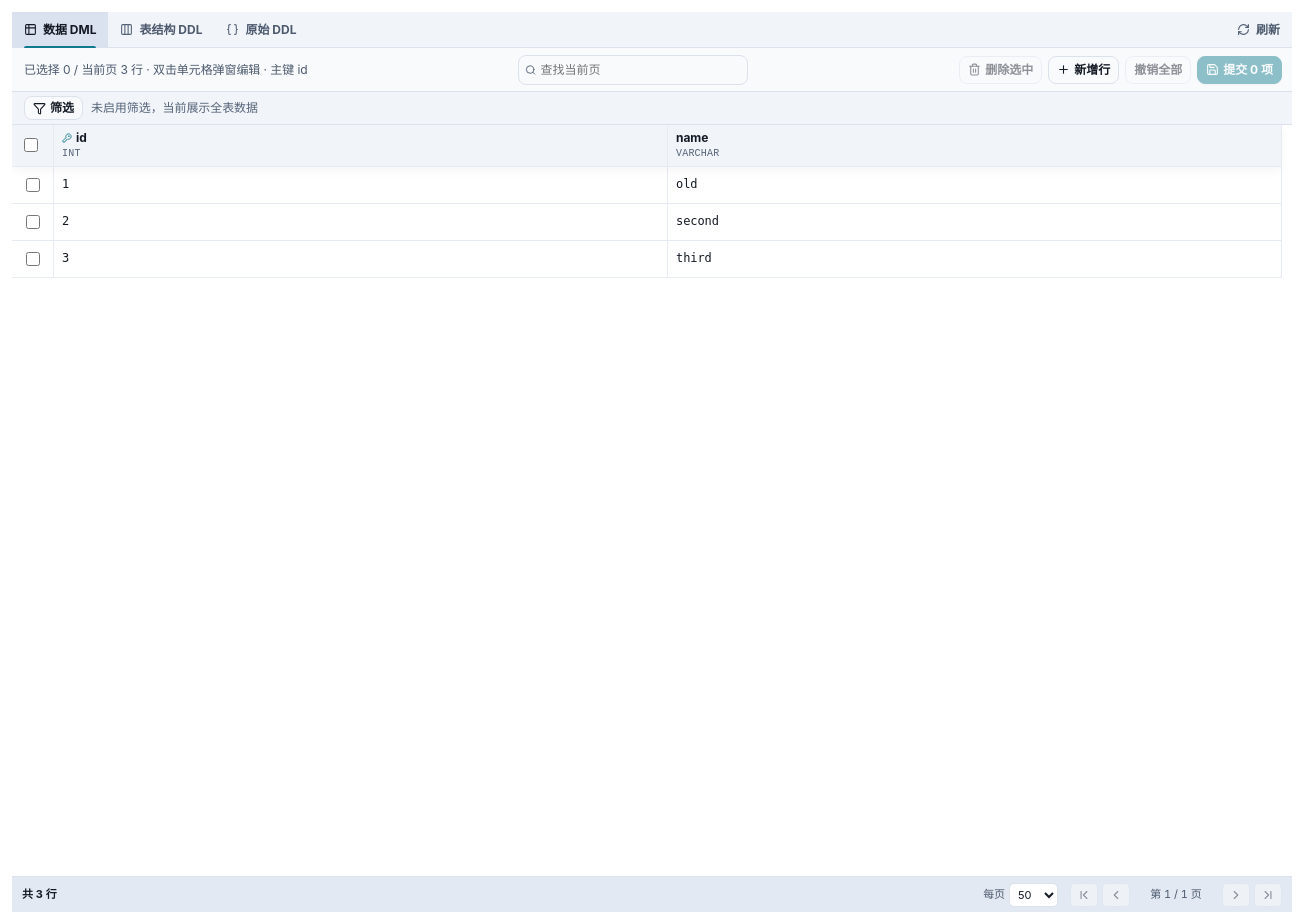
it: TableWorkspace › finds values within the current data page
Expected: the text "已选择 0 / 当前页 3 行 · 双击单元格弹窗编辑 · 主键 id" is shown, [24, 61, 308, 78]
Step 1. Press k in the element named "orders 表工作区"
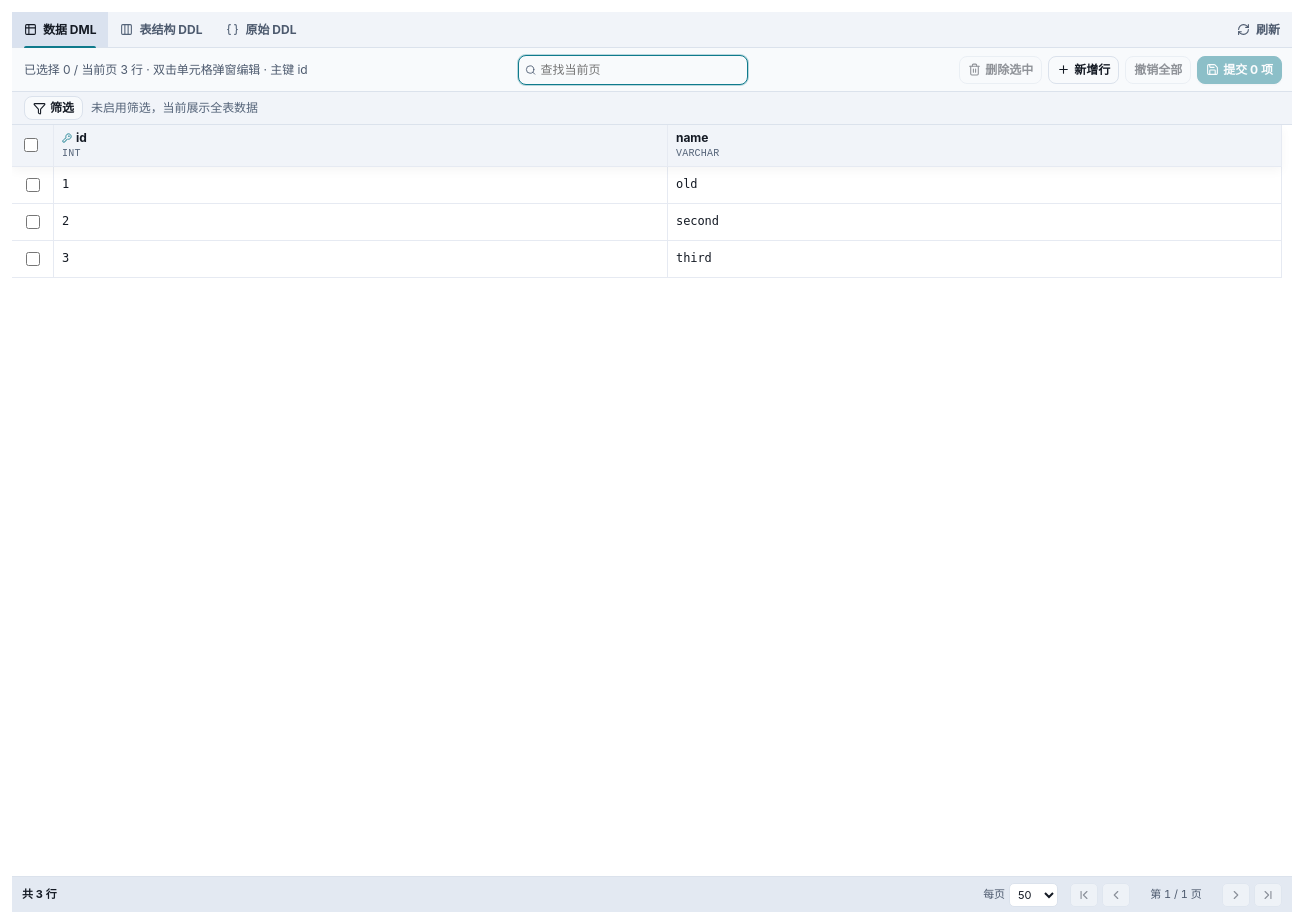
Step 2. Type "SECOND" into the search field named "查找当前页数据" → x=641, y=70, box [540, 56, 741, 84]
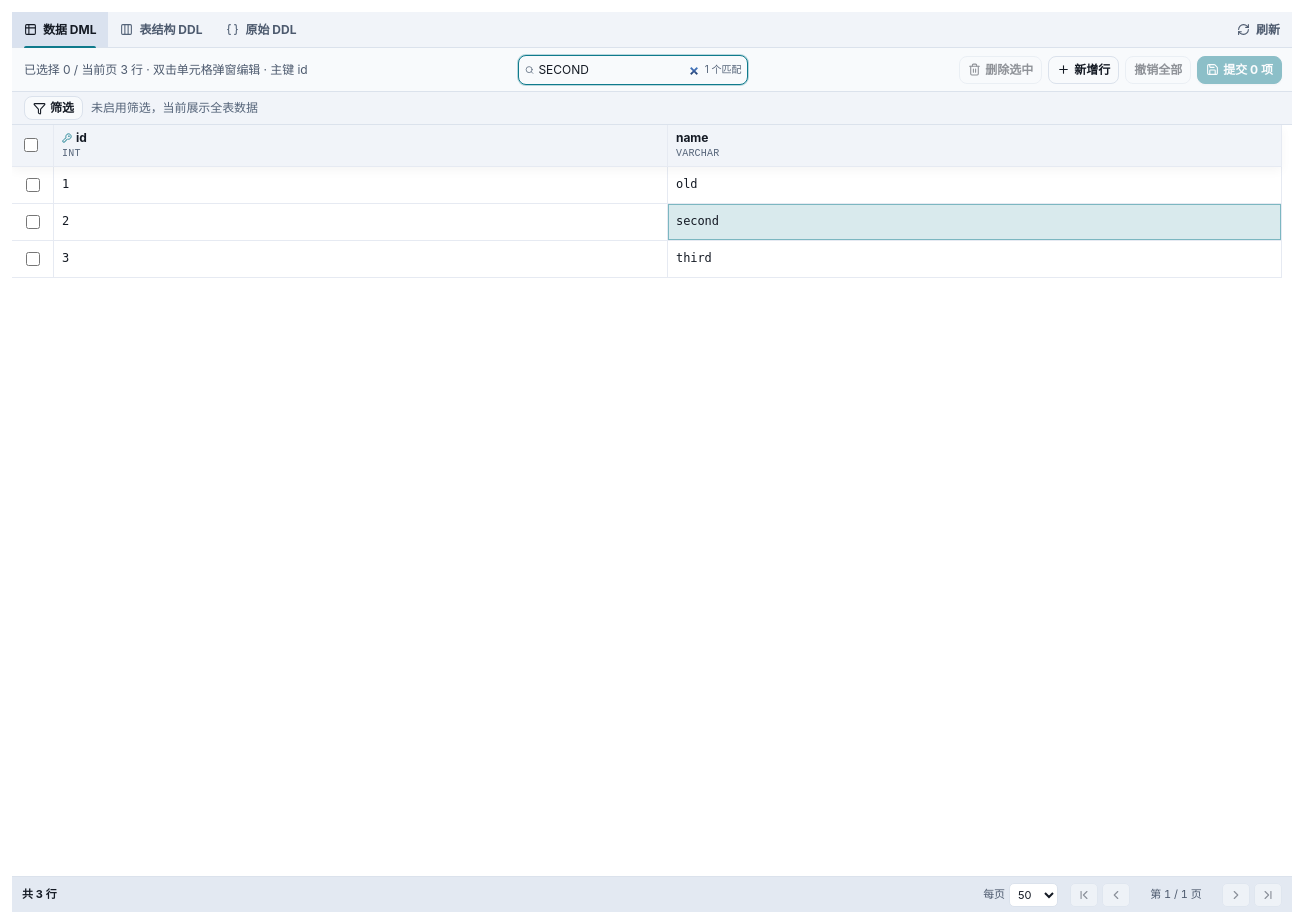
Expected: the text "1 个匹配" is shown, [705, 62, 741, 77]
